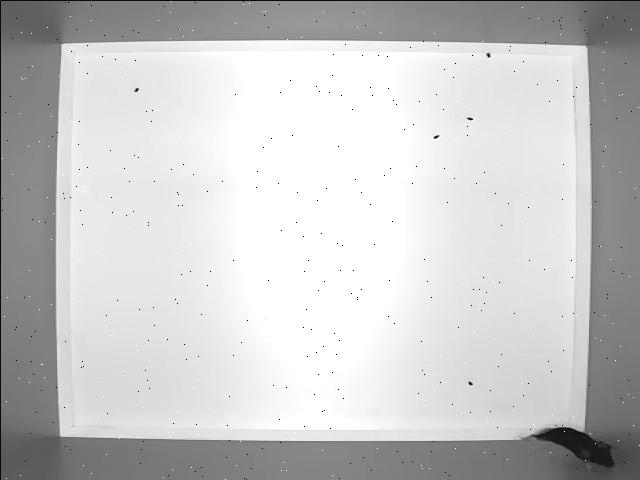Tikus: (508, 419, 622, 472)
